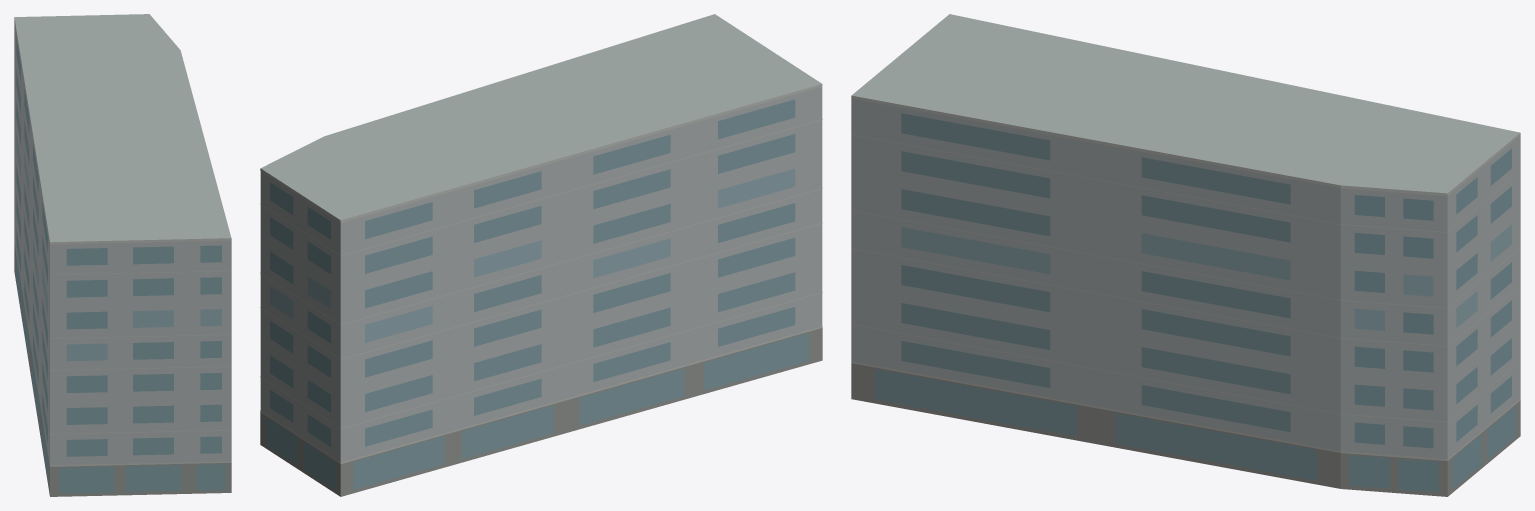
The model's file is survey-upis-32732964.glb.
The picture shows the model from 3 angles, left to right: view 1: azimuth 30°, elevation 25°; view 2: azimuth 150°, elevation 25°; view 3: azimuth 270°, elevation 25°; orthographic projection. The views are drawn at different scales.
Visible parts, largest first — view 1: survey-upis-32732964.tmp; view 2: survey-upis-32732964.tmp; view 3: survey-upis-32732964.tmp.
Boxes of the visible parts, <box> form: survey-upis-32732964.tmp: <box>14,14,231,496</box>; survey-upis-32732964.tmp: <box>260,14,822,496</box>; survey-upis-32732964.tmp: <box>851,14,1520,496</box>.
Size of the model in its own units: 30.95 by 24.4 by 48.78.
